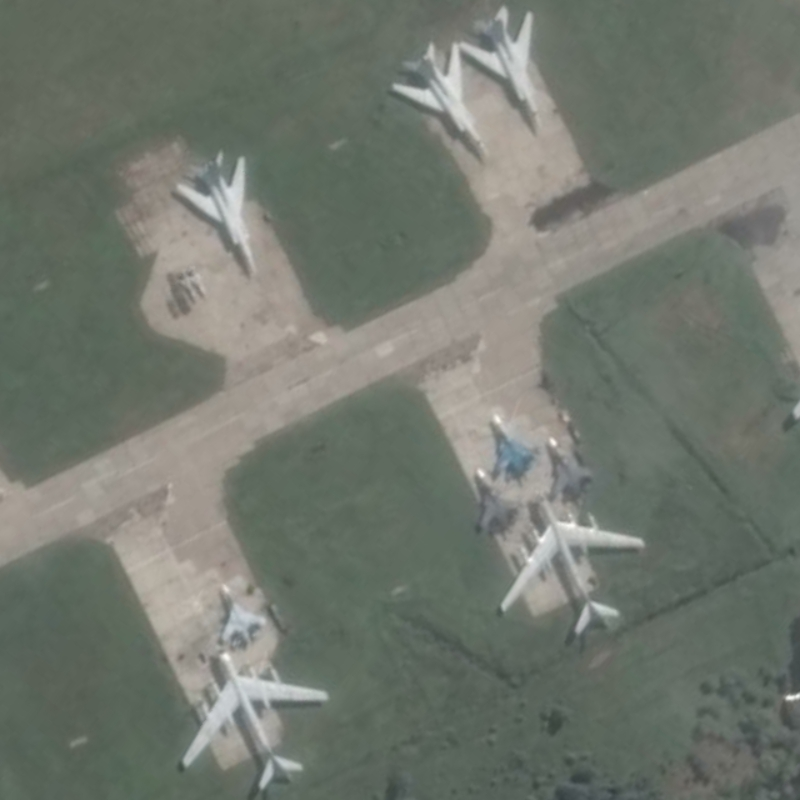A1: (217, 581, 270, 648)
A12: (390, 39, 490, 158), (457, 3, 546, 131), (173, 147, 259, 277)
A17: (178, 647, 332, 792), (497, 492, 647, 637)
A19: (489, 410, 543, 481), (473, 465, 524, 536), (545, 434, 595, 500)
